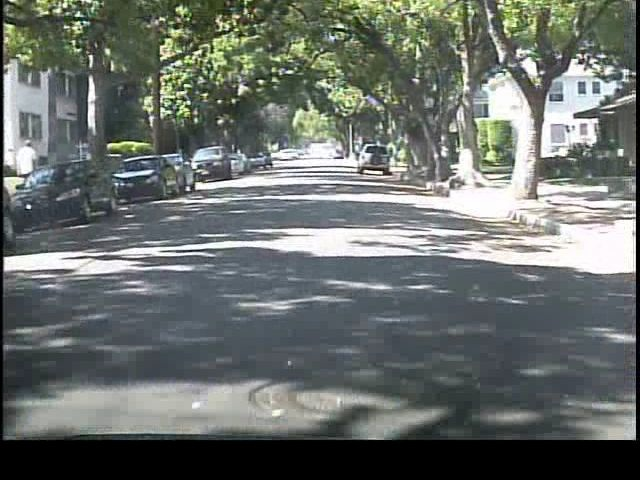person: (16, 138, 44, 205)
